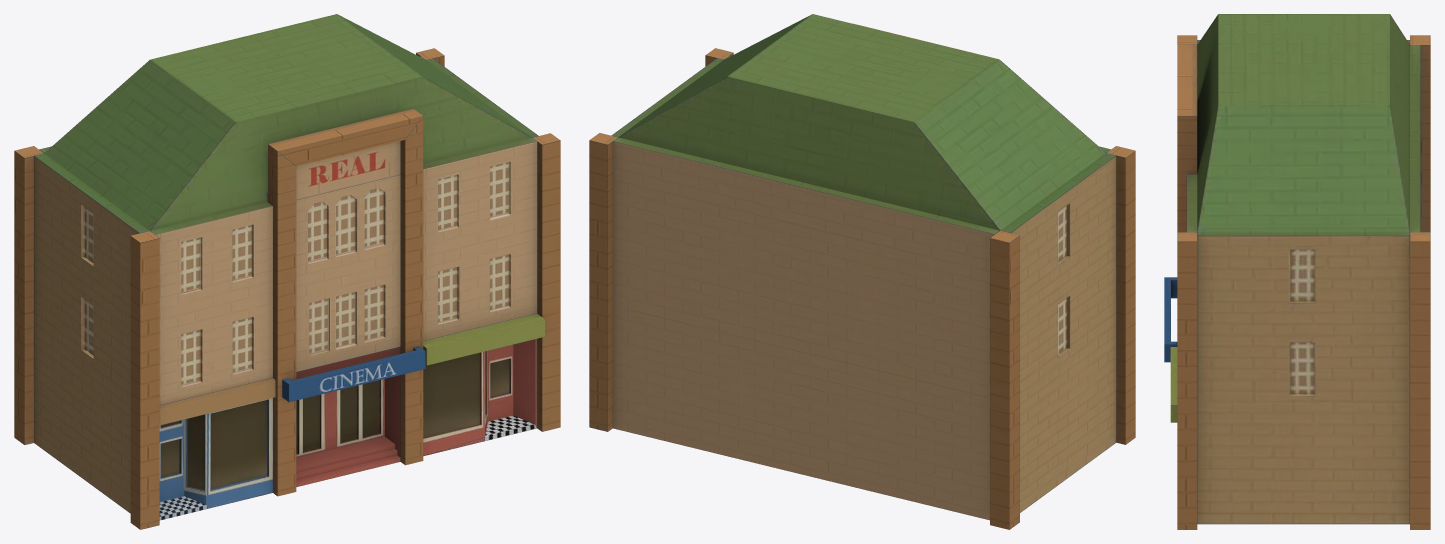
The model's file is cinema.glb.
The picture shows the model from 3 angles, left to right: view 1: azimuth 30°, elevation 25°; view 2: azimuth 150°, elevation 25°; view 3: azimuth 270°, elevation 25°; orthographic projection.
Parts seen in each view (by area): view 1: Cinema_mesh; view 2: Cinema_mesh; view 3: Cinema_mesh.
Part boxes in pixels (bbox=[...]): Cinema_mesh: bbox=[14, 14, 560, 529]; Cinema_mesh: bbox=[589, 14, 1135, 529]; Cinema_mesh: bbox=[1164, 14, 1430, 529].
Bounding box in the file's own units: 22.94 × 19.03 × 12.53.
Materials: 1 (1 with a texture image).
